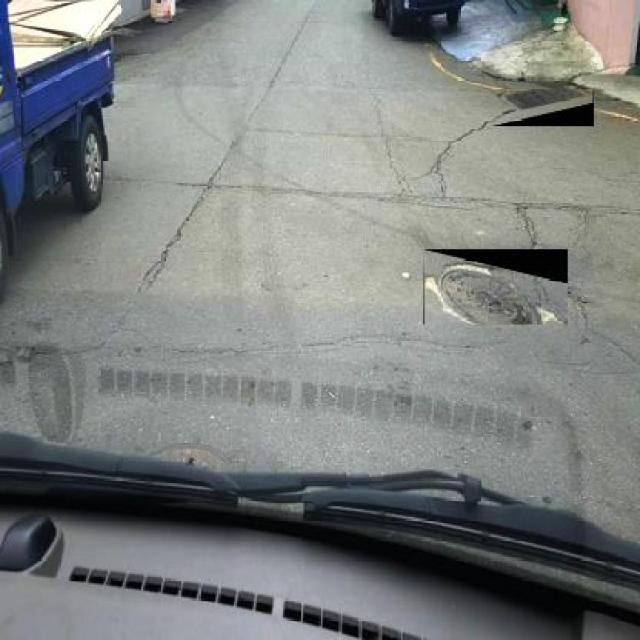Manhole: (423, 249, 568, 325), (492, 89, 594, 126), (154, 440, 246, 468)
